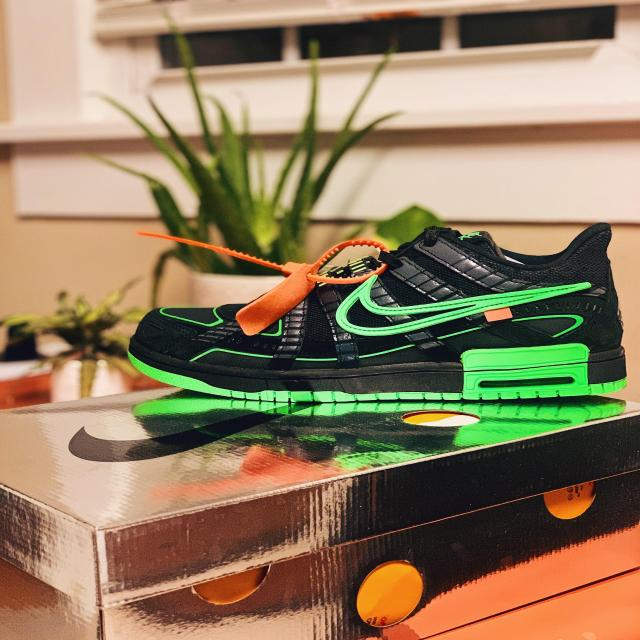shoe: (128, 227, 640, 443)
